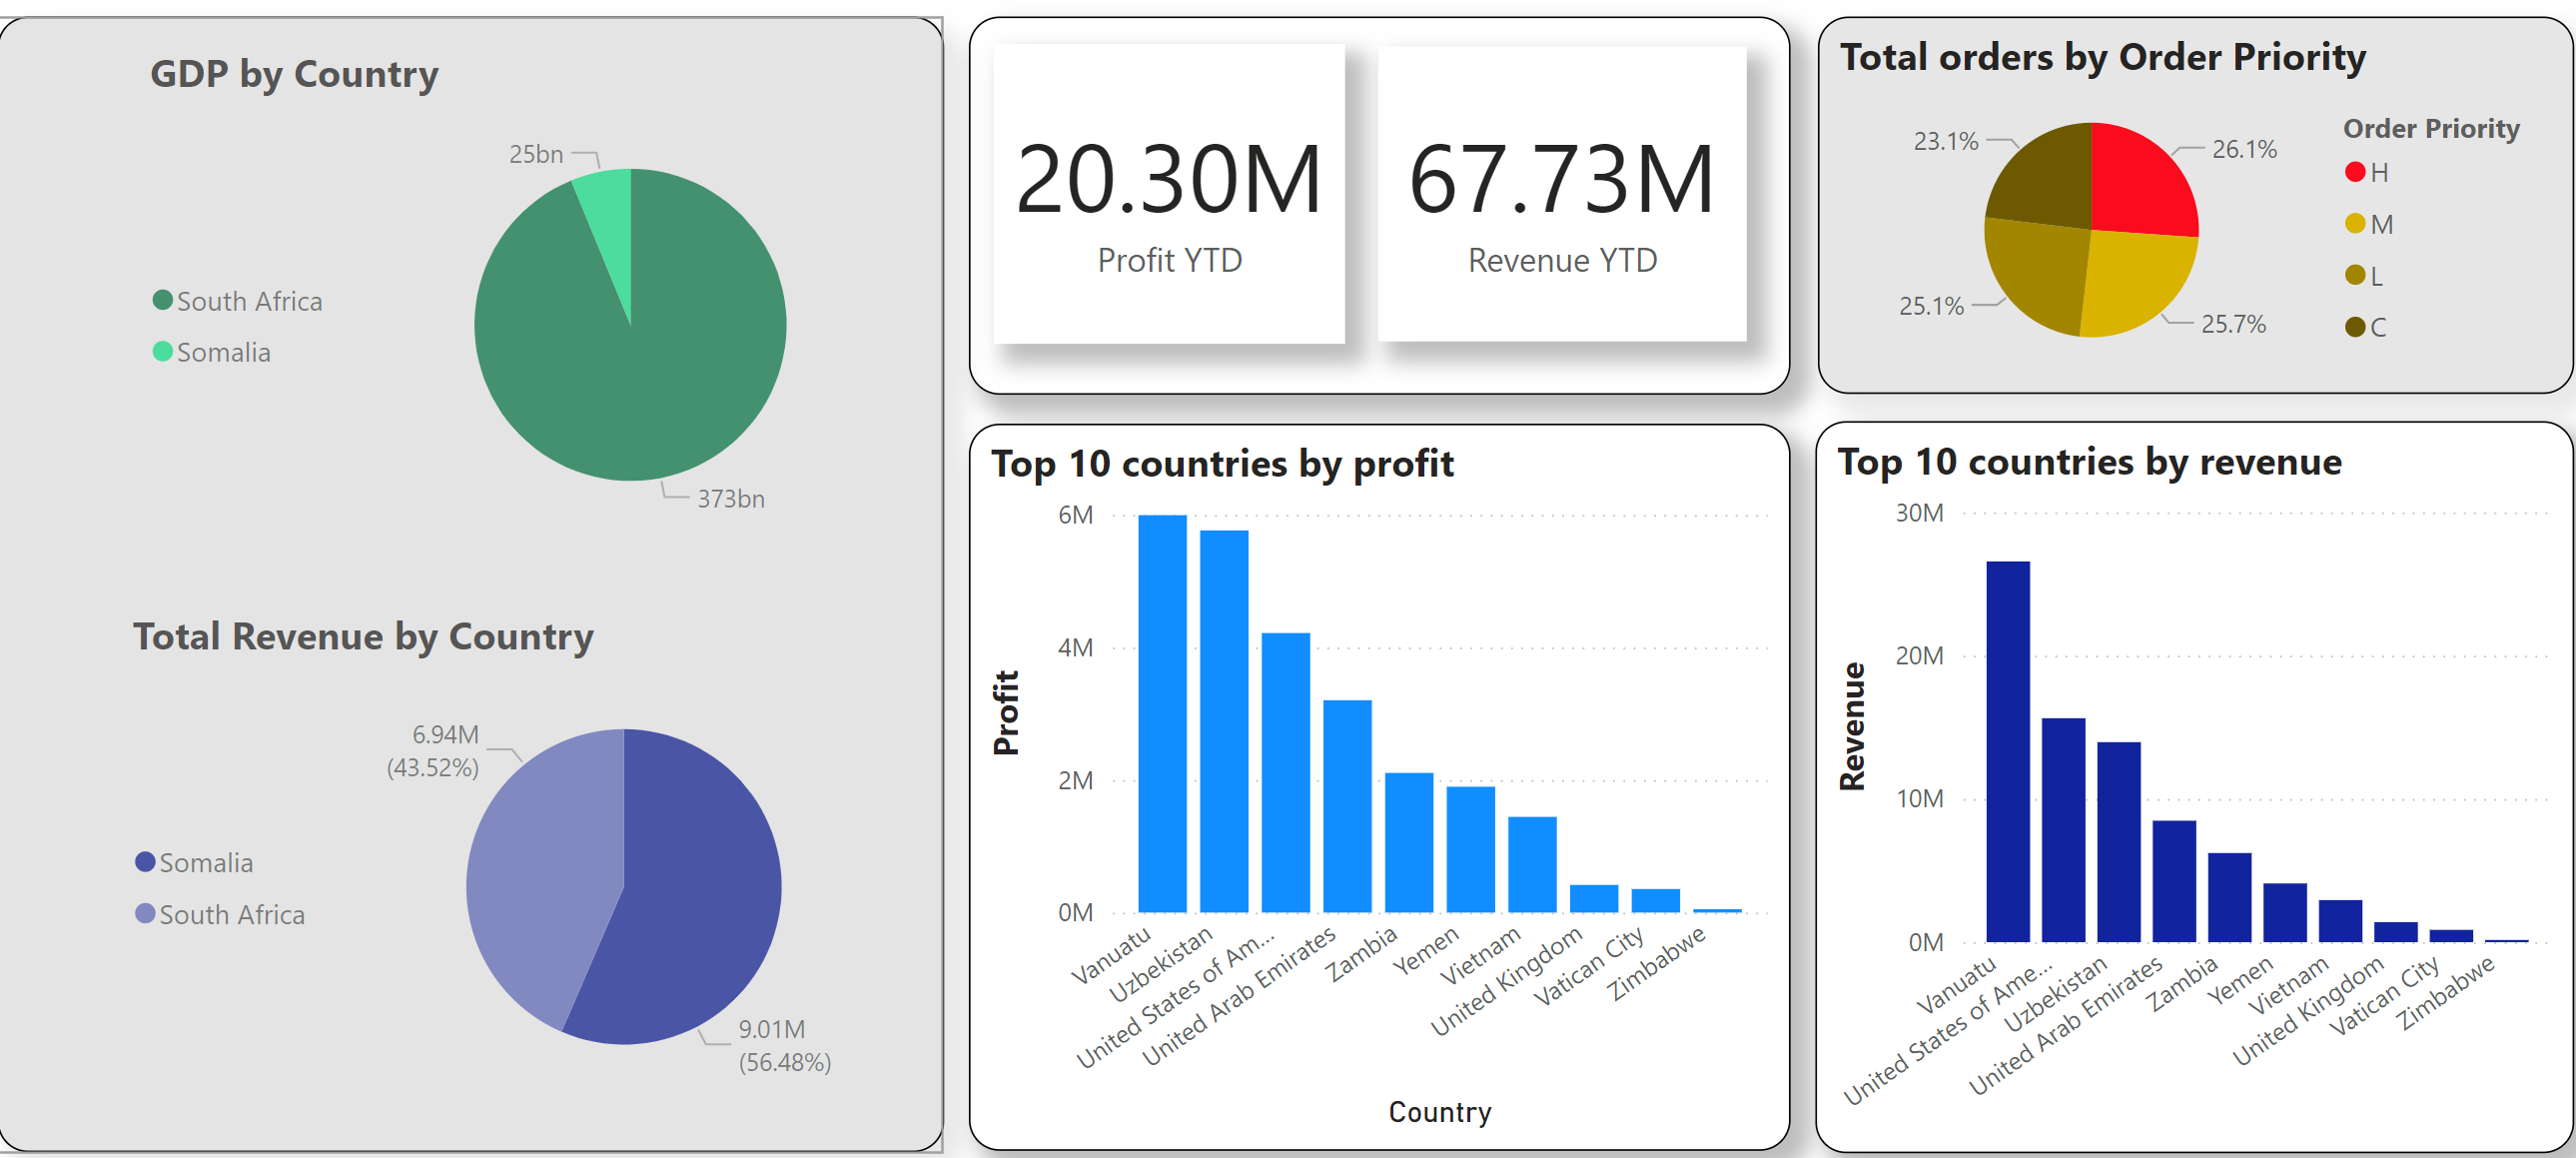

This screenshot's page, from the dashboard's own definition file:
{"tool":"powerbi","page":{"name":"Dashboard 2","canvas":[1280,720],"ordinal":1},"visuals":[{"type":"group","id":"g1","title":"gdp and country","box":[8.7,31,463.6,556.1],"z":0},{"type":"card","title":"YTD Profit","fields":{"Values":["Measure Table.Profit YTD"]},"box":[496.1,43.7,172.1,146.8],"z":0,"group":"g2"},{"type":"pieChart","fields":{"Category":["African_GDP.Country"],"Y":["Measure Table.GDP"]},"box":[78.6,45.2,386.2,247.4],"z":0,"group":"g1"},{"type":"card","title":"YTD Revenue","fields":{"Values":["Measure Table.Revenue YTD"]},"box":[684.9,45.3,180.3,144.3],"z":0,"group":"g3"},{"type":"group","id":"g2","title":"YTD Profit","box":[496.1,43.7,172.1,146.8],"z":1000},{"type":"pieChart","title":"Total Revenue by Country","fields":{"Y":["Measure Table.Revenue"],"Category":["African_GDP.Country"]},"box":[69.7,321.1,396.9,247.4],"z":1000,"group":"g1"},{"type":"textbox","title":"GDP and Country backgrd","box":[8.7,31,463.6,556.1],"z":2000,"group":"g1"},{"type":"group","id":"g3","title":"YTD Revenue","box":[684.9,45.3,181.2,143.2],"z":2000},{"type":"textbox","box":[484.1,30.3,402.2,185.1],"z":3000},{"type":"pieChart","fields":{"Category":["Sales_Order.Order Priority"],"Y":["Measure Table.Total orders"]},"box":[900,30.6,370.5,184.6],"z":4000},{"type":"columnChart","title":"Top 10 countries by profit","fields":{"Y":["Measure Table.Profit"],"Category":["Sales_Order.Country"]},"box":[484.1,229.6,402.2,356],"z":5000},{"type":"columnChart","title":"Top 10 countries by revenue","fields":{"Category":["Sales_Order.Country"],"Y":["Measure Table.Revenue"]},"box":[898.8,228.7,371.7,358.3],"z":6000}]}

Visuals, with their boxes on the page's 1280x720 design canvas (x1, y1, x2, y2). These are canvas units, not pixel positions in the 2576x1158 screenshot, which may show the page scaled, cropped or inside an application window:
"gdp and country" group: 9, 31, 472, 587
"YTD Profit" card: 496, 44, 668, 190
pieChart - African_GDP.Country x Measure Table.GDP: 79, 45, 465, 293
"YTD Revenue" card: 685, 45, 865, 190
"YTD Profit" group: 496, 44, 668, 190
"Total Revenue by Country" pieChart: 70, 321, 467, 568
"GDP and Country backgrd" textbox: 9, 31, 472, 587
"YTD Revenue" group: 685, 45, 866, 188
textbox: 484, 30, 886, 215
pieChart - Sales_Order.Order Priority x Measure Table.Total orders: 900, 31, 1270, 215
"Top 10 countries by profit" columnChart: 484, 230, 886, 586
"Top 10 countries by revenue" columnChart: 899, 229, 1270, 587
